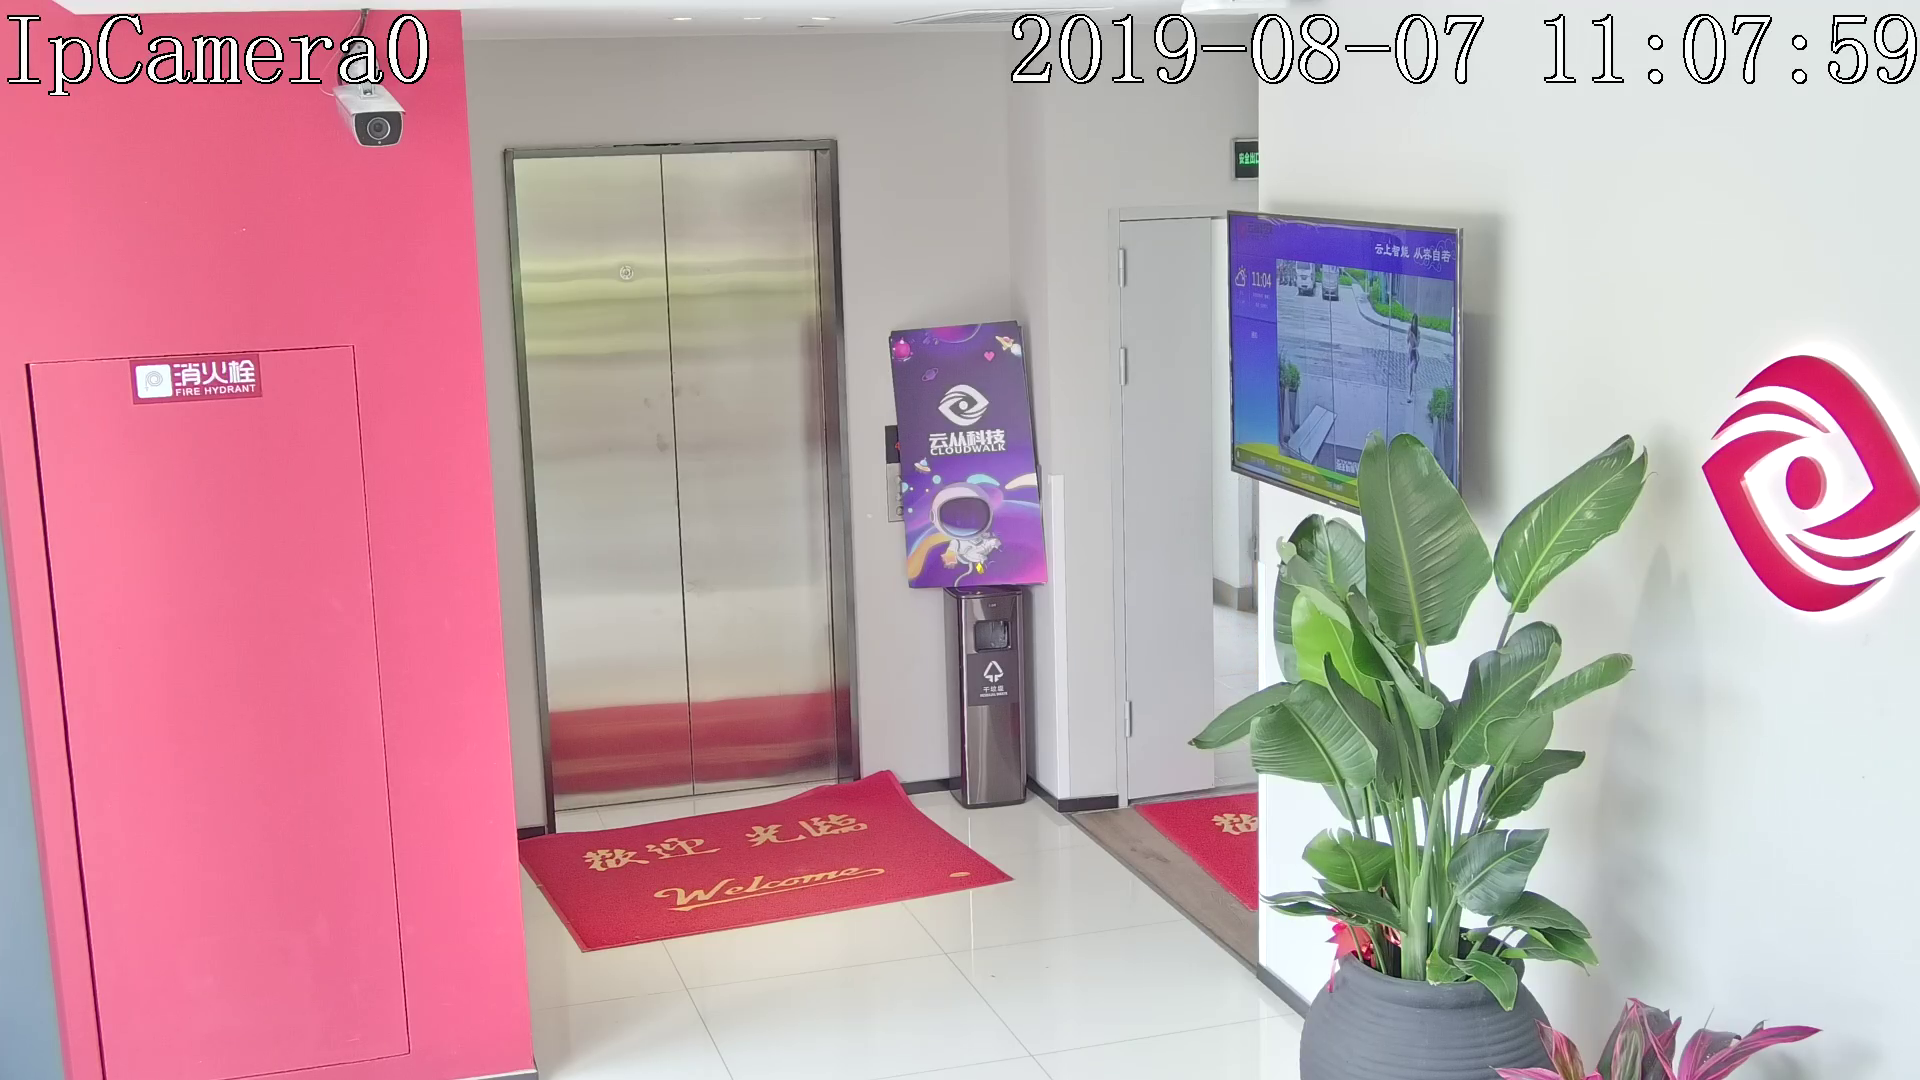bill: (885, 322, 1054, 588)
